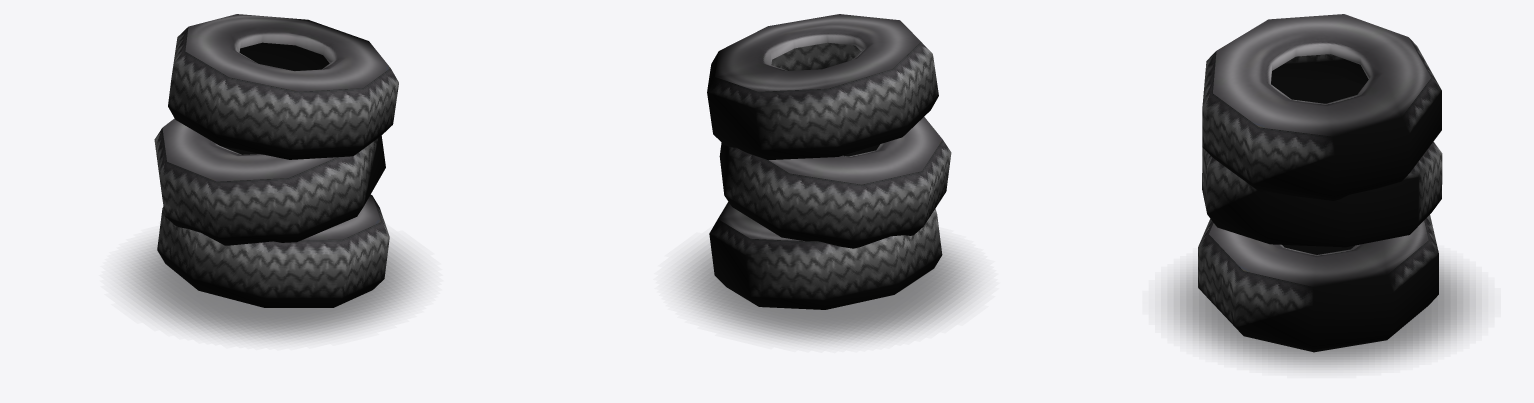
The model's file is ice_barrel.glb.
The picture shows the model from 3 angles, left to right: view 1: azimuth 30°, elevation 25°; view 2: azimuth 150°, elevation 25°; view 3: azimuth 270°, elevation 25°; orthographic projection. The views are drawn at different scales.
Parts seen in each view (by area): view 1: tire_stackmesh, drop_shadow; view 2: tire_stackmesh, drop_shadow; view 3: tire_stackmesh, drop_shadow.
Boxes of the visible parts, x1,y1,x2,y2 form: tire_stackmesh: [154, 14, 398, 307]; drop_shadow: [123, 240, 420, 340]; tire_stackmesh: [707, 14, 951, 309]; drop_shadow: [677, 242, 975, 343]; tire_stackmesh: [1198, 14, 1442, 352]; drop_shadow: [1167, 261, 1475, 367].
Size of the model in its own units: 4.59 by 3.2 by 4.59.
3 materials, 3 textured.
